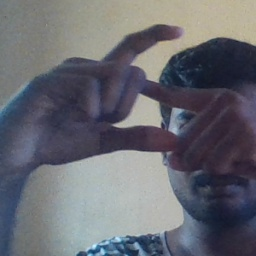E: (92, 21, 199, 156)
